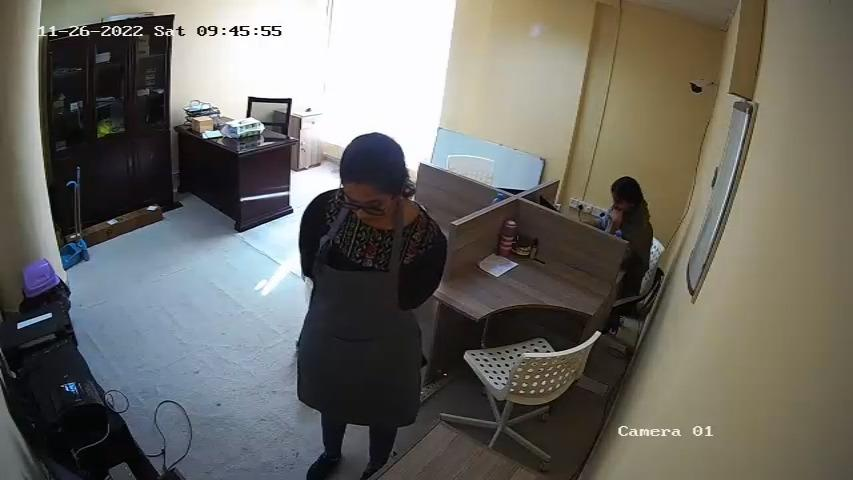apron: (305, 216, 410, 403)
